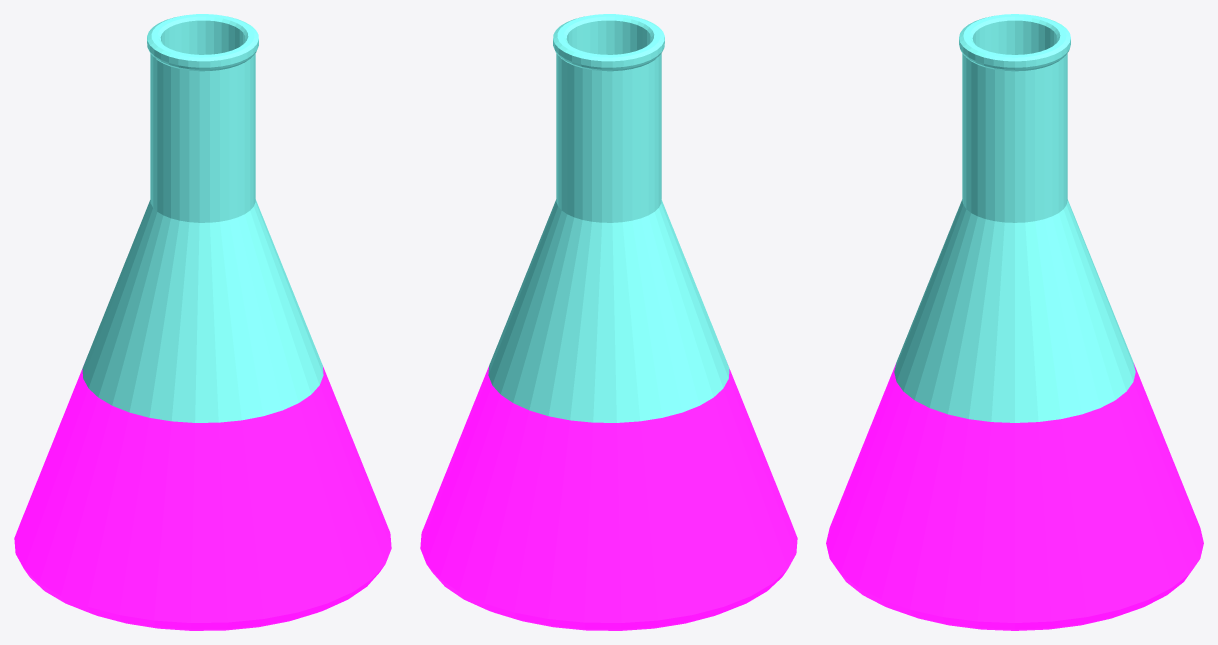
File: testtubepink.fbx
3 renders of one model, left to right at view 1: azimuth 30°, elevation 25°; view 2: azimuth 150°, elevation 25°; view 3: azimuth 270°, elevation 25°, orthographic.
Parts seen in each view (by area): view 1: Cylinder.001; view 2: Cylinder.001; view 3: Cylinder.001.
Part boxes in pixels (box(x1,y1,x2,y2)): Cylinder.001: box(14, 14, 391, 630); Cylinder.001: box(420, 14, 797, 630); Cylinder.001: box(826, 14, 1203, 630).
Bounding box in the file's own units: 200 × 305 × 200.
